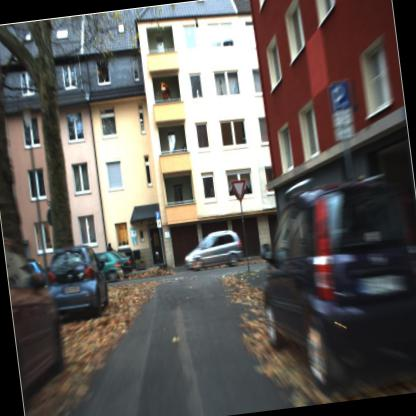other: (226, 174, 251, 206)
